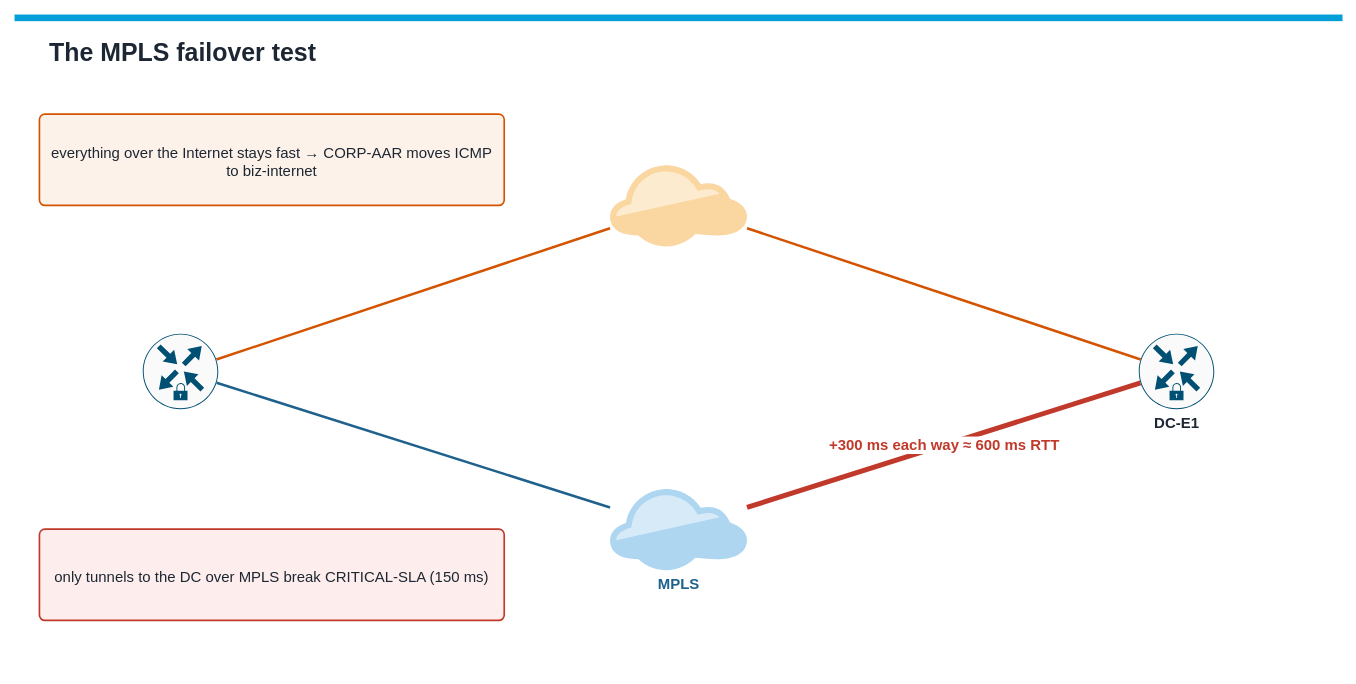
Some shapes in this 1356 by 684 pixel diagram are drawn without their labels. Each missing label, with the centre of its shape:
"BR1-E1" goes at pixel 180 371.
"INET" goes at pixel 678 205.
